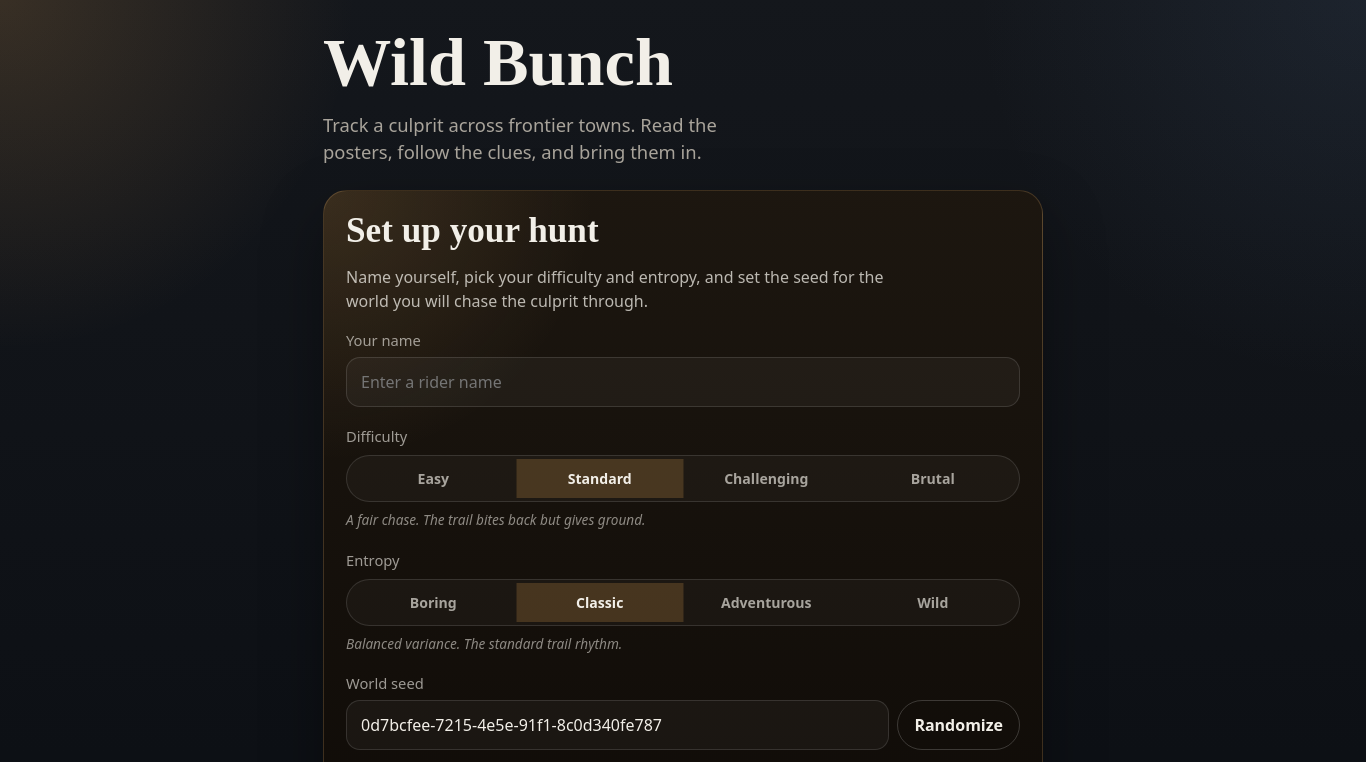
Scenario: StartFlow › uses a new operation ID after a definitive setup rejection is corrected
In the field labelled "Your name": (683, 382) [346, 357, 1020, 407], type "Ranger Vale"
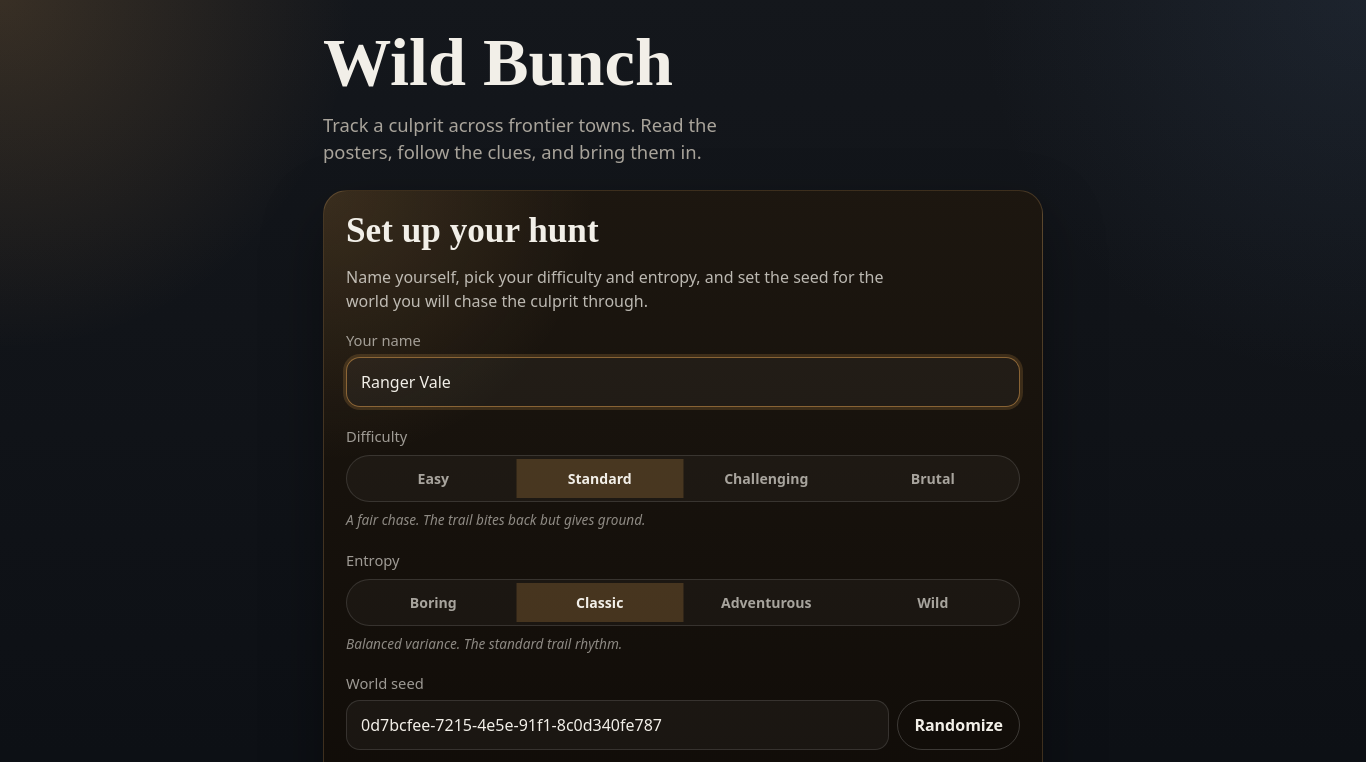
Replace the text in the field labelled "World seed" with "11111111-1111-4111-8111-111111111111": (618, 725) [346, 700, 889, 750]
(page scrolled)
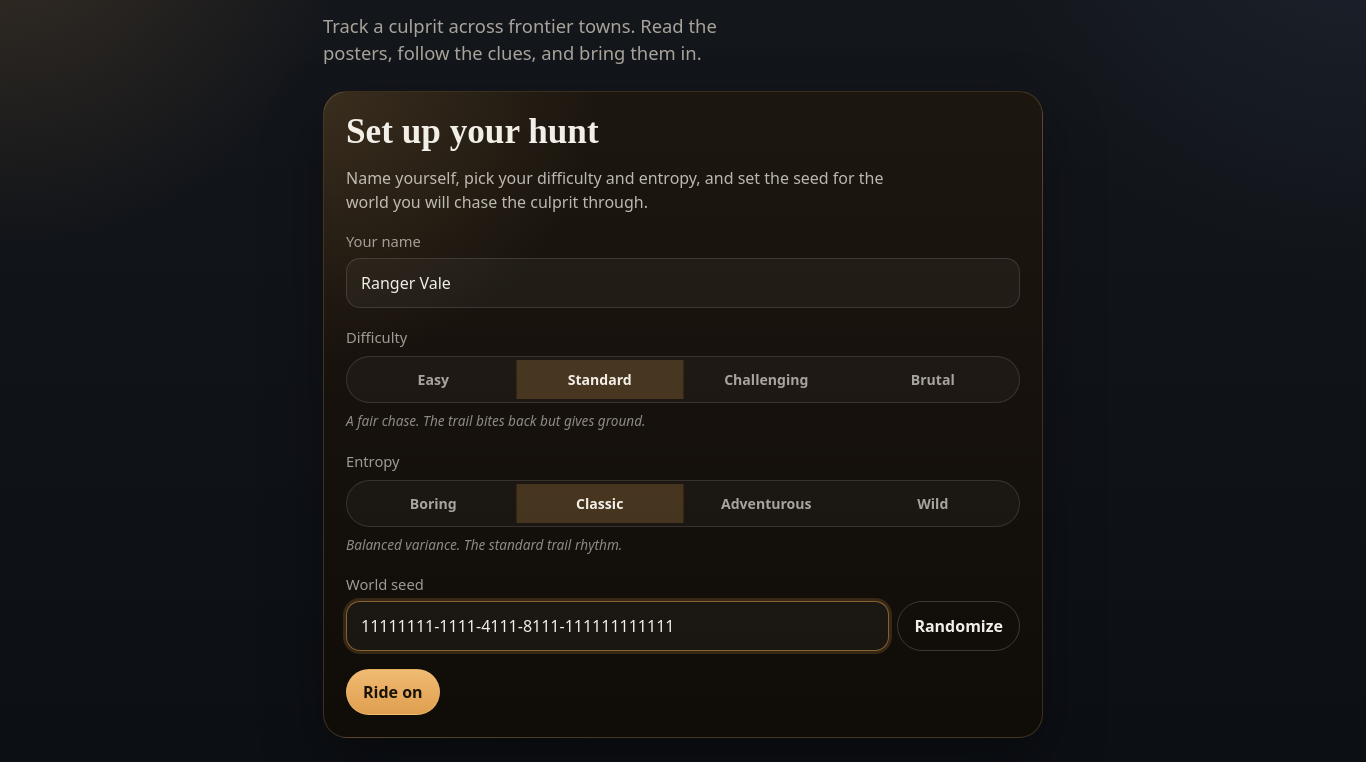
Click the button "Ride on": (393, 692) [346, 669, 440, 715]
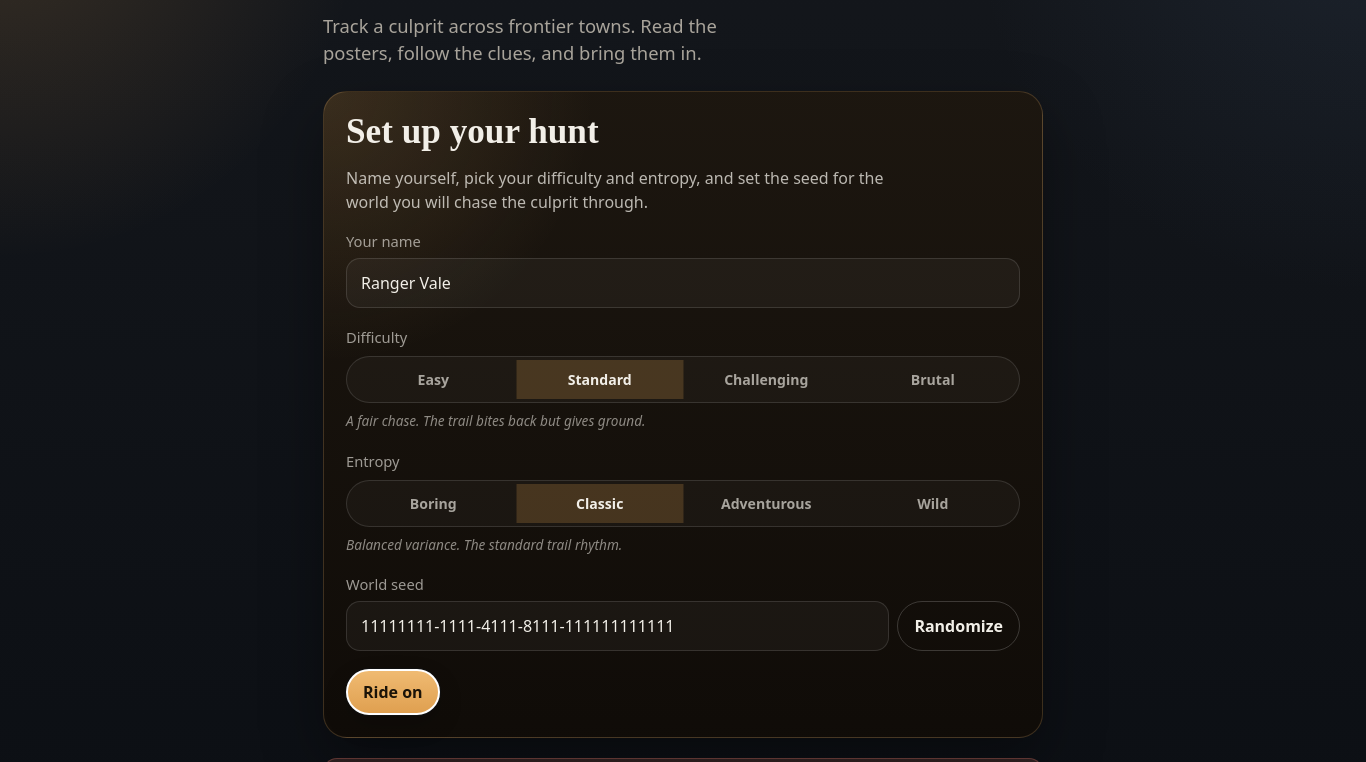
Replace the text in the field labelled "Your name" with "Clint Eastwood": (683, 283) [346, 258, 1020, 308]
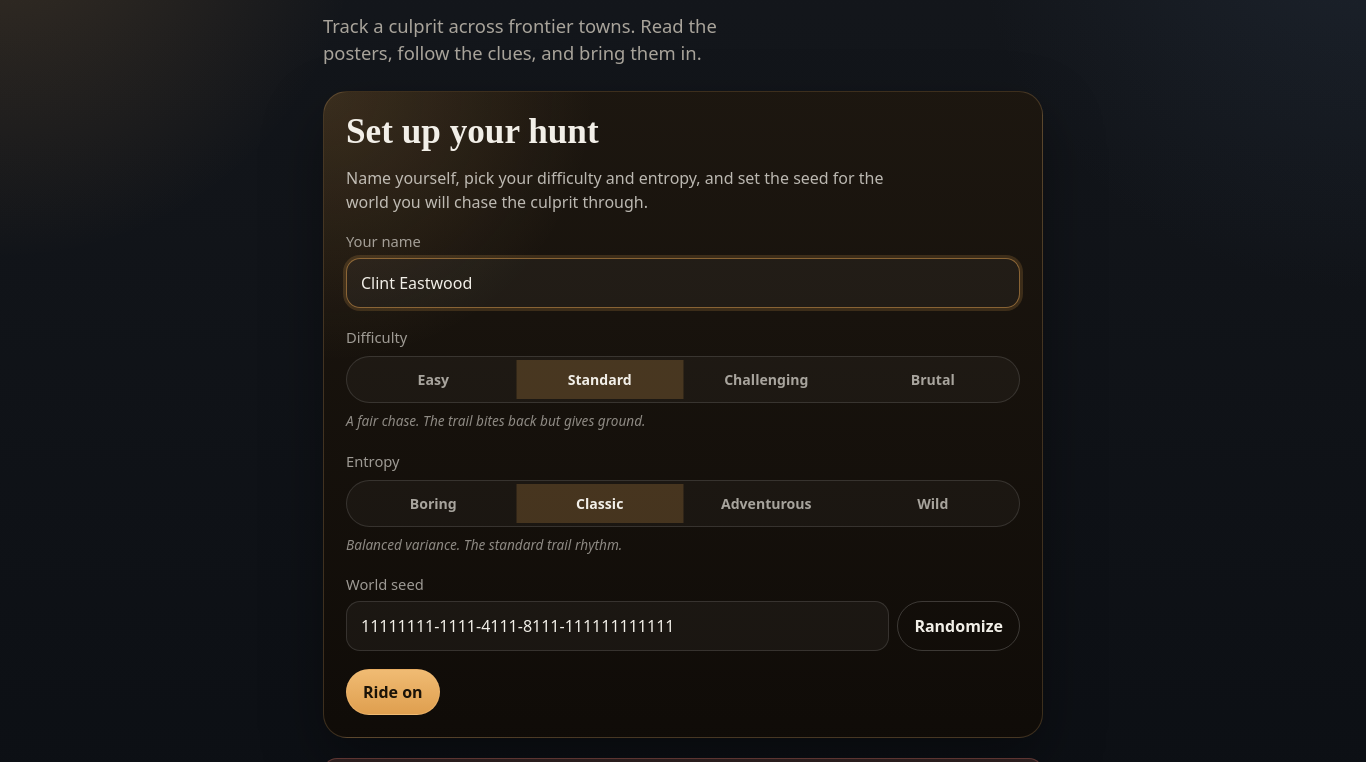
Replace the text in the field labelled "World seed" with "22222222-2222-4222-8222-222222222222": (618, 626) [346, 601, 889, 651]
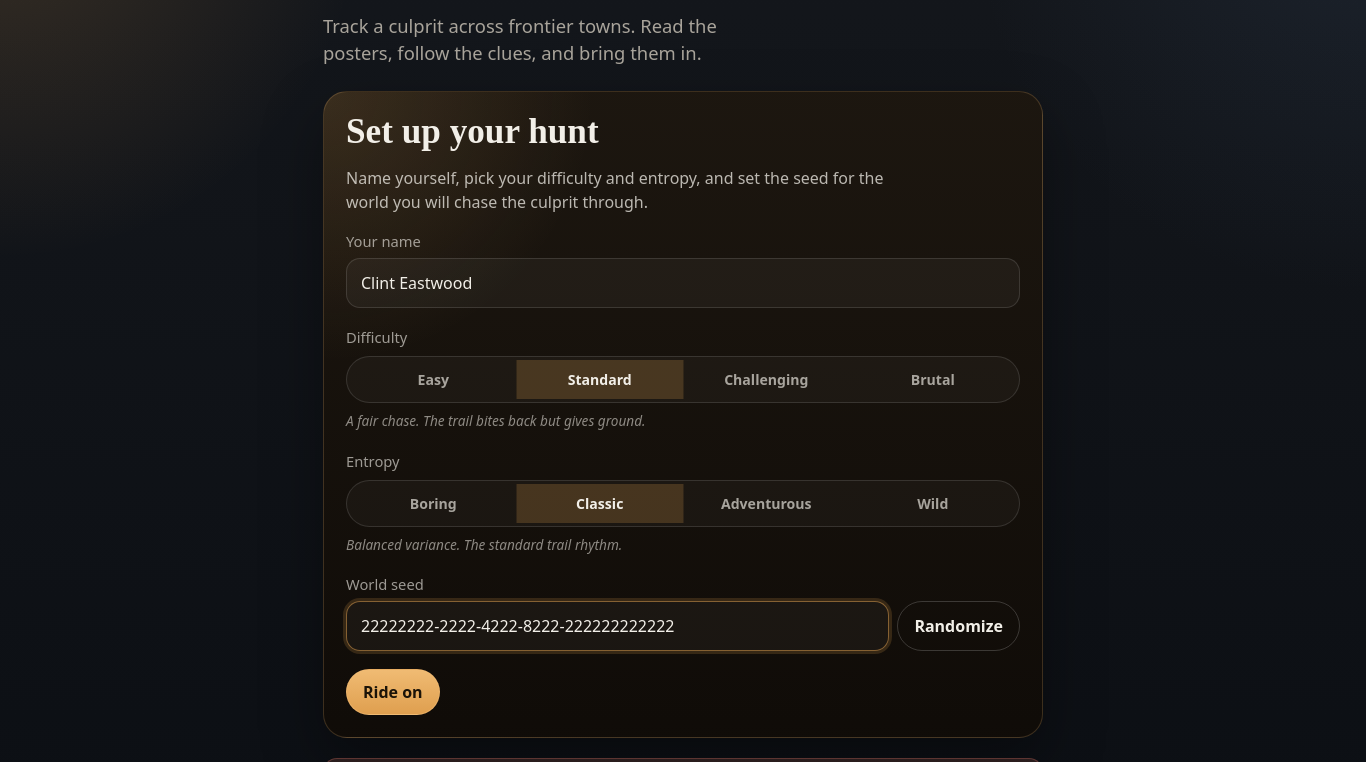
Click the button "Ride on": (393, 692) [346, 669, 440, 715]
(page scrolled)
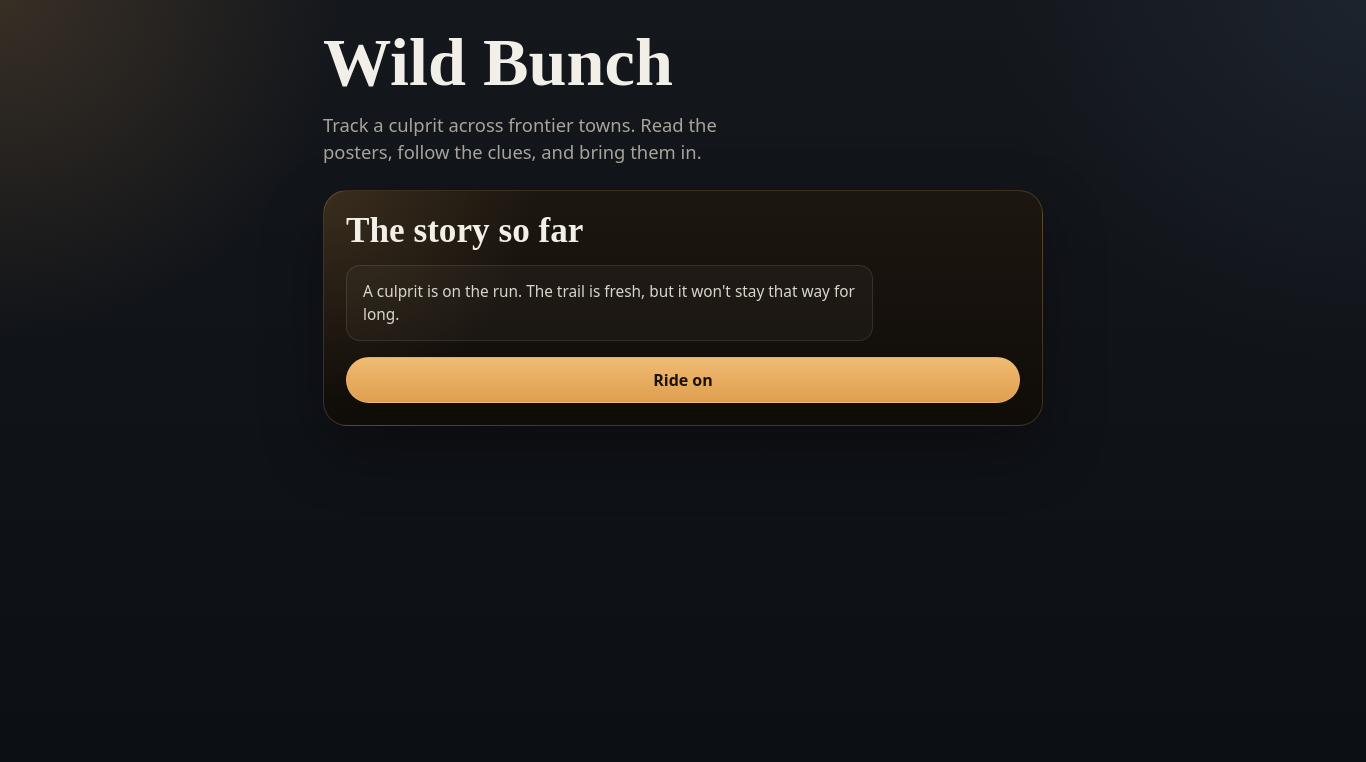
Result: the heading "The story so far" is shown at [346, 211, 584, 250]
